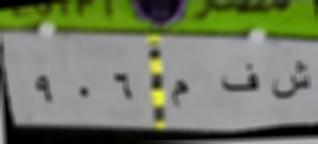0: (73, 76, 95, 111)
6: (107, 68, 143, 101)
9: (26, 74, 64, 106)
faa: (220, 59, 262, 98)
meem: (164, 75, 199, 113)
sheen: (268, 58, 314, 103)
